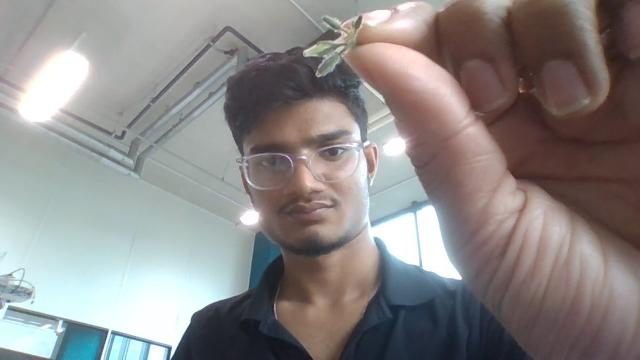Flower Bud: (316, 50, 346, 77), (303, 41, 342, 58), (321, 15, 348, 36), (351, 14, 363, 32)
